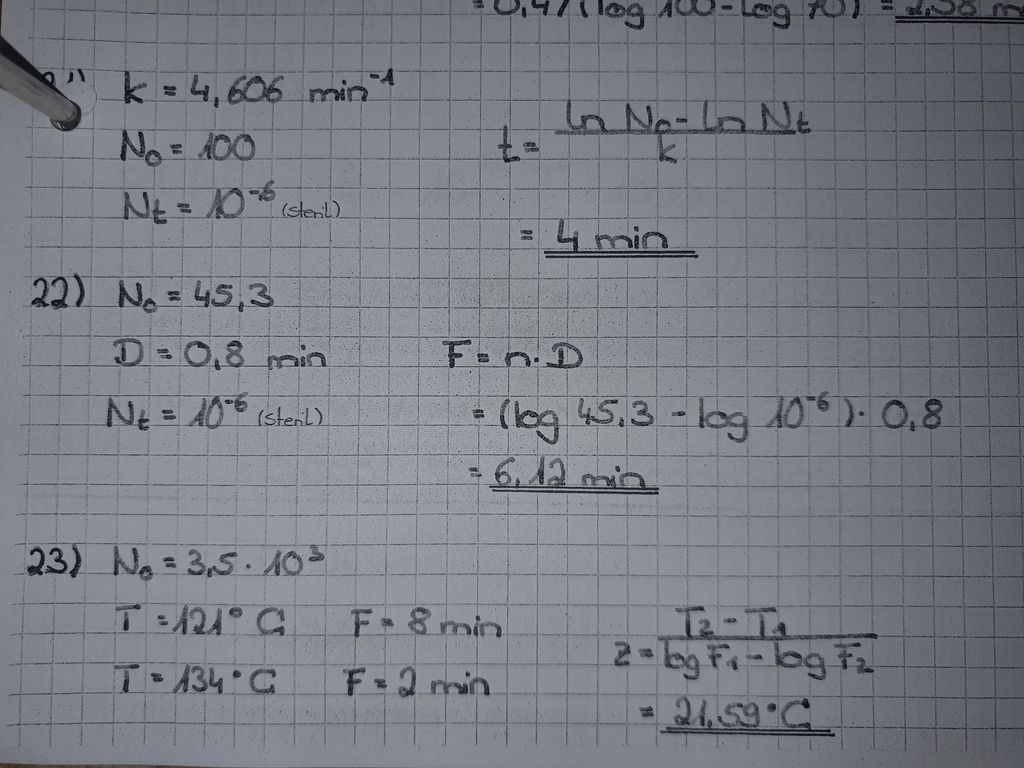equals: (465, 394, 493, 424), (517, 131, 543, 160), (169, 193, 196, 220), (461, 455, 487, 483), (150, 339, 180, 363), (156, 548, 182, 575), (162, 280, 188, 306), (155, 402, 182, 427), (377, 609, 404, 633), (157, 79, 183, 103), (365, 670, 392, 693), (471, 343, 493, 370), (150, 607, 177, 628), (635, 641, 658, 665), (164, 137, 187, 160), (146, 665, 170, 687), (517, 225, 540, 246), (637, 700, 659, 721)
equation: (482, 81, 820, 185), (463, 384, 963, 436), (604, 598, 887, 684), (115, 53, 402, 112), (99, 528, 343, 585), (103, 325, 343, 381), (507, 205, 694, 263), (461, 443, 674, 492), (103, 261, 291, 315), (105, 596, 308, 646), (431, 319, 598, 378), (107, 654, 289, 707), (632, 691, 831, 735), (112, 177, 279, 228), (341, 597, 511, 646), (334, 657, 509, 704), (97, 389, 259, 438), (107, 124, 266, 169)
fraction: (546, 87, 816, 174), (662, 603, 879, 681)
term: (498, 388, 956, 434), (186, 57, 400, 106), (542, 210, 694, 261), (185, 533, 338, 581), (181, 330, 333, 378), (493, 448, 655, 491), (662, 695, 818, 730), (171, 599, 300, 640), (171, 660, 279, 700), (499, 328, 585, 373), (405, 603, 505, 641), (397, 661, 492, 700), (192, 271, 280, 312), (203, 178, 280, 223), (187, 389, 252, 432), (196, 128, 261, 164), (108, 535, 156, 583), (111, 273, 162, 314), (119, 185, 167, 228), (114, 128, 162, 167), (105, 393, 151, 432), (109, 331, 147, 369), (119, 67, 154, 106), (111, 601, 144, 639), (112, 659, 144, 697), (437, 334, 472, 368), (490, 121, 515, 164), (605, 632, 634, 668), (348, 605, 374, 640), (339, 664, 364, 698)
